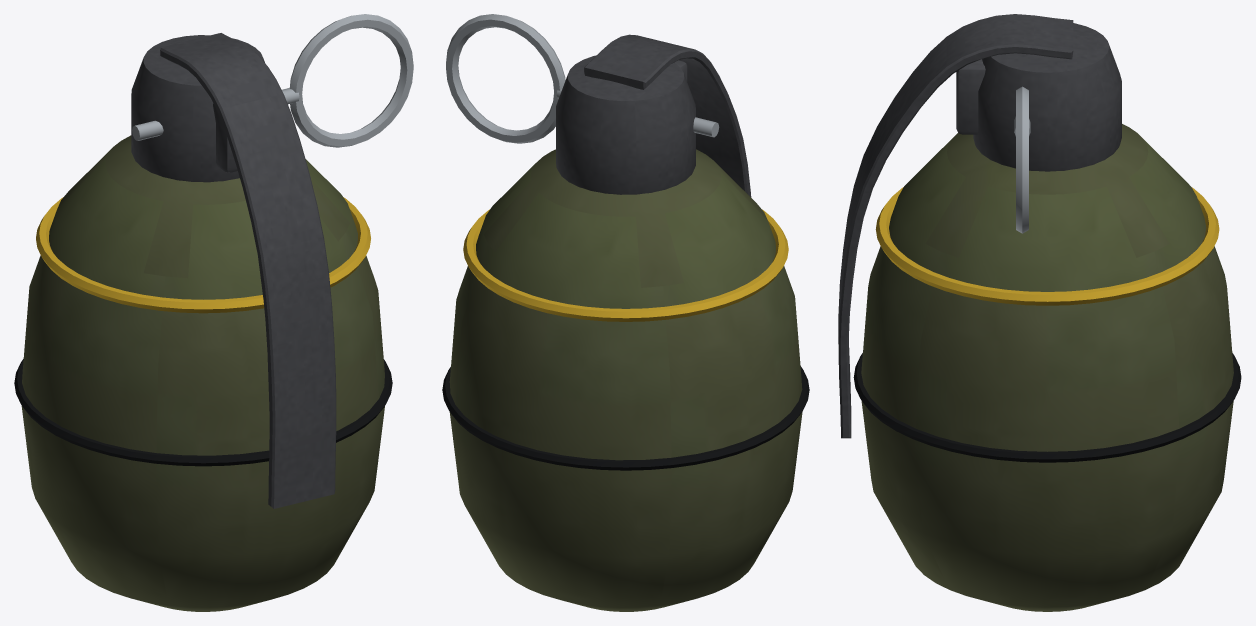
Rendered from hand-grenade.glb.
3 views of the same model, side by side, from view 1: azimuth 30°, elevation 25°; view 2: azimuth 150°, elevation 25°; view 3: azimuth 270°, elevation 25° (orthographic). The views are drawn at different scales.
Parts seen in each view (by area): view 1: Grenade, Lever, Pin; view 2: Grenade, Lever, Pin; view 3: Grenade, Lever, Pin.
Boxes of the visible parts, left/top/right/bottom form: Grenade: left=14, top=35, right=392, bottom=611; Lever: left=160, top=33, right=336, bottom=508; Pin: left=132, top=14, right=413, bottom=147; Grenade: left=442, top=55, right=809, bottom=611; Lever: left=584, top=34, right=751, bottom=197; Pin: left=446, top=14, right=719, bottom=143; Grenade: left=853, top=23, right=1241, bottom=611; Lever: left=838, top=14, right=1073, bottom=438; Pin: left=1014, top=86, right=1030, bottom=233.
Size of the model in its own units: 0.068 by 0.0977 by 0.064.
5 materials, 2 textured.
